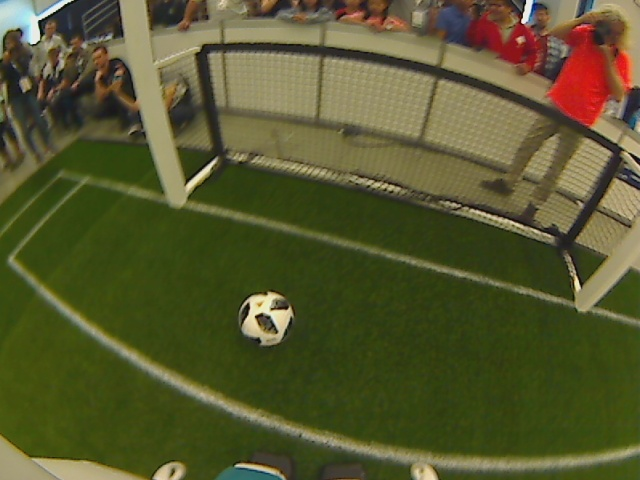ball: (235, 292, 295, 347)
